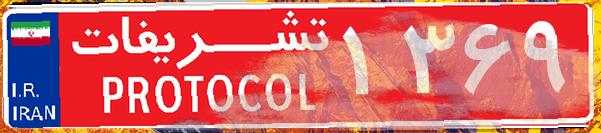1: (340, 20, 400, 115)
3: (400, 20, 460, 115)
6: (460, 20, 520, 115)
9: (520, 20, 580, 115)
تشریفات: (60, 8, 340, 125)
